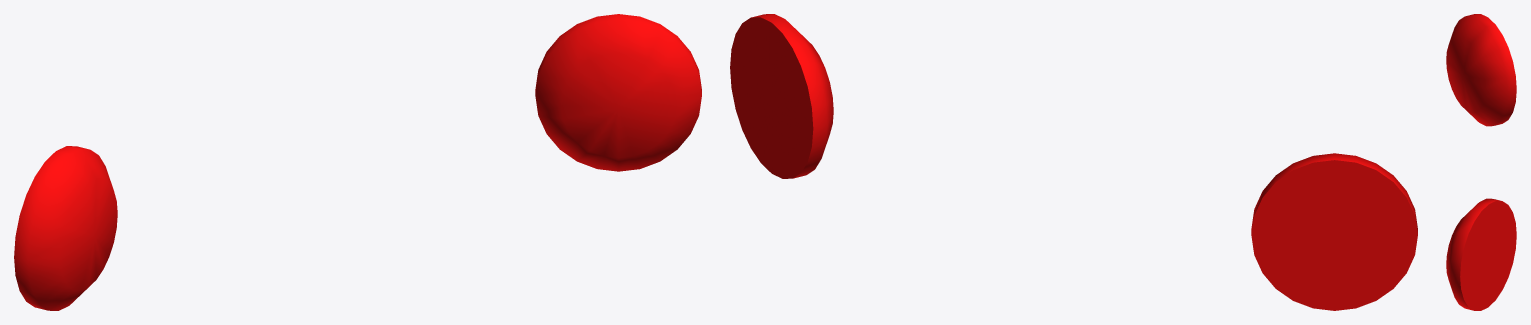
The model's file is EM_DashRed.obj.
3 renders of one model, left to right at view 1: azimuth 30°, elevation 25°; view 2: azimuth 150°, elevation 25°; view 3: azimuth 270°, elevation 25°, orthographic. The views are drawn at different scales.
Visible parts, largest first — view 1: EM_DashRed; view 2: EM_DashRed; view 3: EM_DashRed.
Part boxes in pixels (box(x1,y1,x2,y2)): EM_DashRed: box(14, 14, 701, 310); EM_DashRed: box(730, 14, 1417, 310); EM_DashRed: box(1446, 14, 1516, 310).
Size of the model in its own units: 2.48 by 0.52 by 0.3239.
